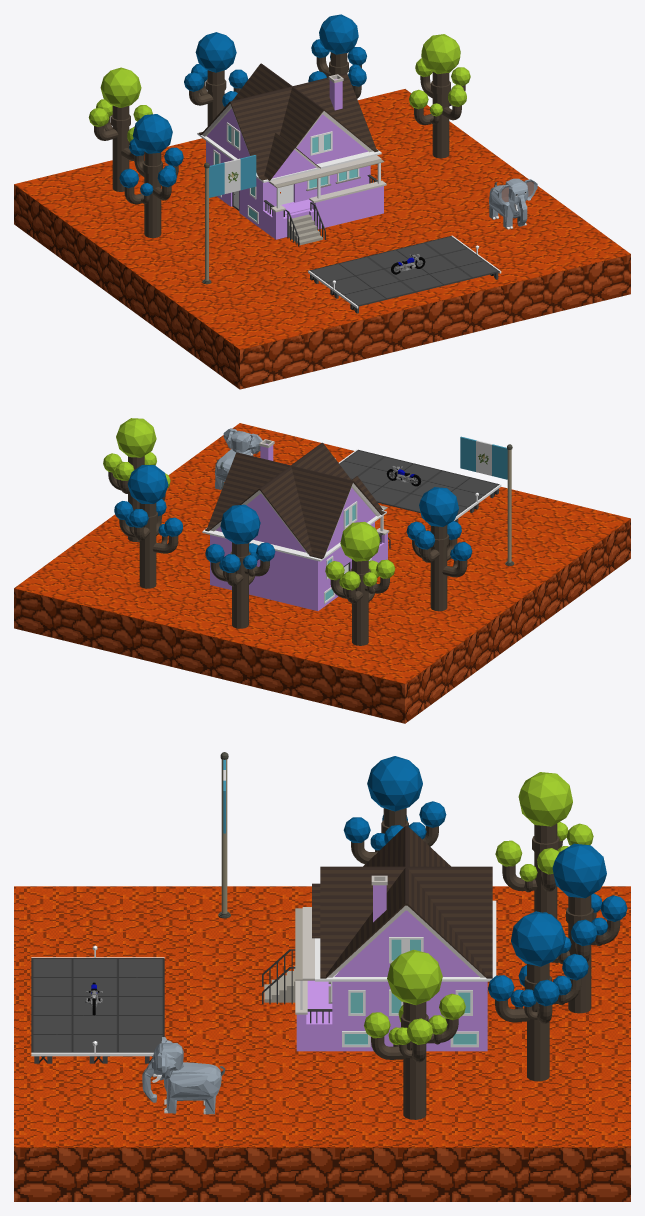
The picture shows the model from 3 angles, top to bottom: view 1: azimuth 30°, elevation 25°; view 2: azimuth 150°, elevation 25°; view 3: azimuth 270°, elevation 25°; orthographic projection. The views are drawn at different scales.
Parts seen in each view (by area): view 1: Cube.001, Cube.391, OBJRANDOM_GUATEMALAN_FLAG, ANIMAL_ELEFANTE; view 2: Cube.001, Cube.391, OBJRANDOM_GUATEMALAN_FLAG, ANIMAL_ELEFANTE; view 3: Cube.001, Cube.391, ANIMAL_ELEFANTE, OBJRANDOM_GUATEMALAN_FLAG.
Boxes of the visible parts, x1,y1,x2,y2 form: Cube.001: (14,14,630,389); Cube.391: (197,63,386,246); OBJRANDOM_GUATEMALAN_FLAG: (202,155,256,284); ANIMAL_ELEFANTE: (489,178,537,229); Cube.001: (14,418,630,723); Cube.391: (202,439,390,611); OBJRANDOM_GUATEMALAN_FLAG: (460,436,514,565); ANIMAL_ELEFANTE: (215,428,262,489); Cube.001: (14,756,630,1201); Cube.391: (262,825,496,1051); ANIMAL_ELEFANTE: (142,1037,225,1114); OBJRANDOM_GUATEMALAN_FLAG: (218,752,230,918).
Size of the model in its own units: 4000 by 1667 by 4000.
Materials: 36 (4 with a texture image).
